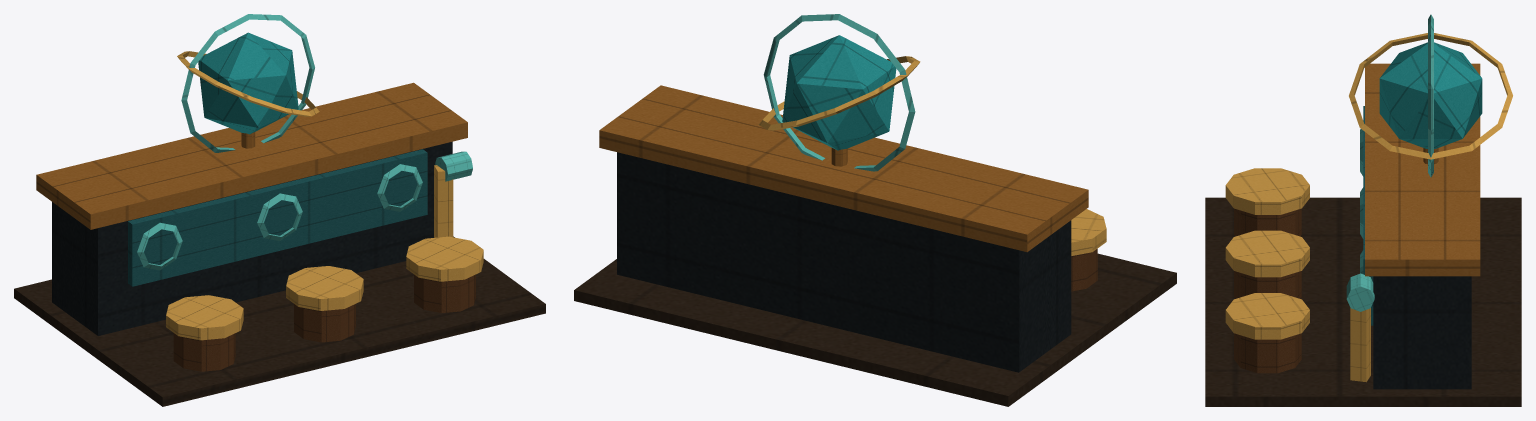
The model's file is bridge-school.e10.glb.
The picture shows the model from 3 angles, left to right: view 1: azimuth 30°, elevation 25°; view 2: azimuth 150°, elevation 25°; view 3: azimuth 270°, elevation 25°; orthographic projection. The views are drawn at different scales.
Visible parts, largest first — view 1: BridgeSchoolE10; view 2: BridgeSchoolE10; view 3: BridgeSchoolE10.
Boxes of the visible parts, bbox=[...] form: BridgeSchoolE10: bbox=[14, 14, 545, 406]; BridgeSchoolE10: bbox=[574, 14, 1176, 406]; BridgeSchoolE10: bbox=[1205, 14, 1521, 406].
Size of the model in its own units: 3.35 by 2.24 by 2.25.
1 material, 1 textured.
